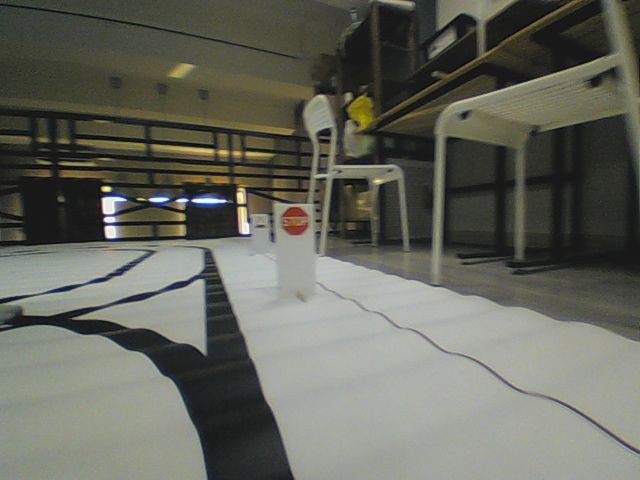Stop: (279, 205, 309, 237)
